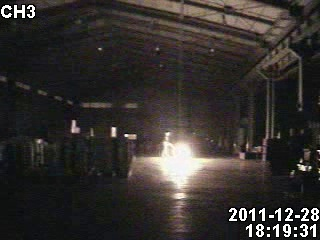fire: (172, 141, 188, 163)
